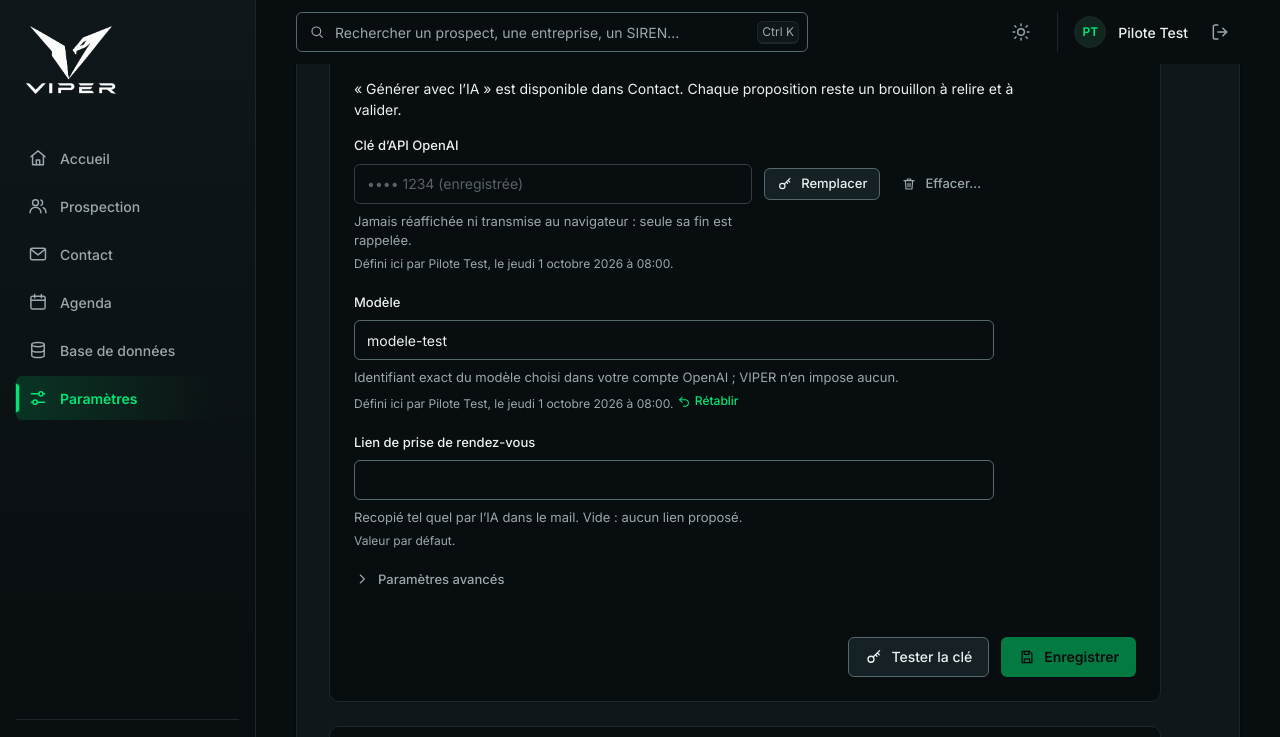
Rédaction IA (OpenAI) › says where a value comes from and puts it back to the default
(page scrolled)
expect the field labelled "Modèle" holds "modele-test": met, box [354,320,994,360]
Click the button "Rétablir" at (708, 400), box [677,392,738,410]
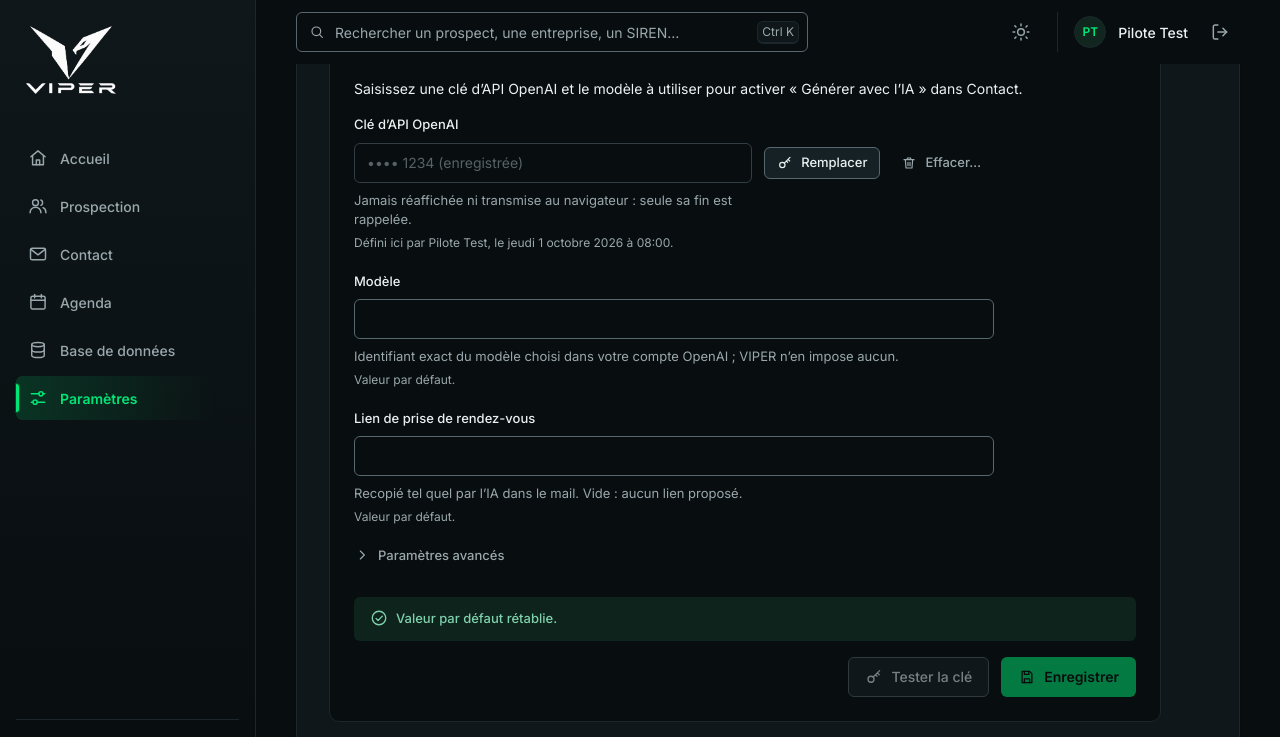
expect the text "Valeur par défaut rétablie." is shown: met, box [354,597,1136,640]
expect the field labelled "Modèle" is empty: met, box [354,299,994,339]
